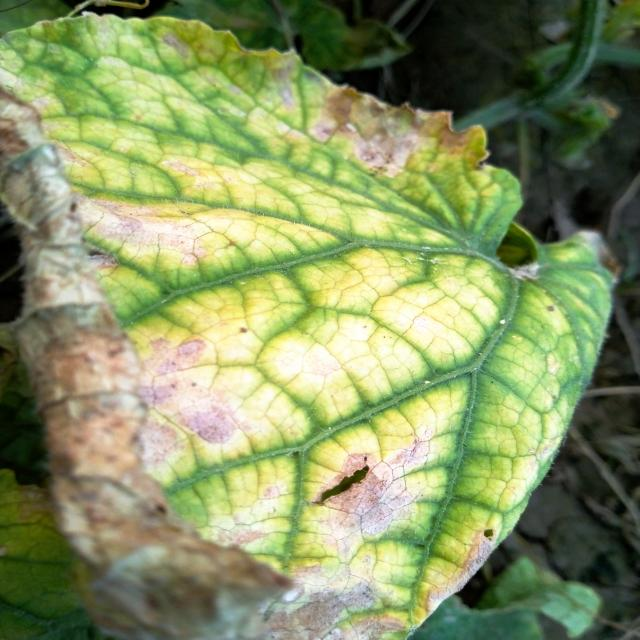Gummy-Stem-Blight: (0, 81, 500, 640), (305, 79, 475, 181)
